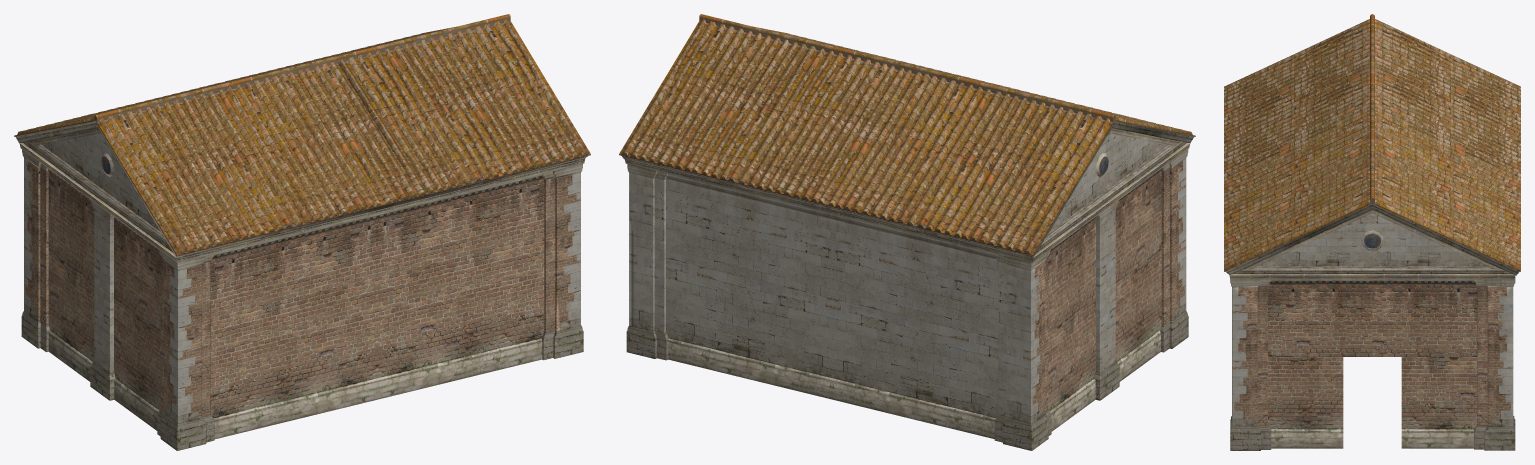
The model's file is Tower4.fbx.
3 renders of one model, left to right at view 1: azimuth 30°, elevation 25°; view 2: azimuth 150°, elevation 25°; view 3: azimuth 270°, elevation 25°, orthographic. The views are drawn at different scales.
Parts seen in each view (by area): view 1: LV_Spechia_City_PrisonTower04_SM_SVR; view 2: LV_Spechia_City_PrisonTower04_SM_SVR; view 3: LV_Spechia_City_PrisonTower04_SM_SVR.
Part boxes in pixels (<box>): LV_Spechia_City_PrisonTower04_SM_SVR: <box>14,14,590,450</box>; LV_Spechia_City_PrisonTower04_SM_SVR: <box>619,14,1195,450</box>; LV_Spechia_City_PrisonTower04_SM_SVR: <box>1224,14,1520,450</box>.
Size of the model in its own units: 6.58 by 4.25 by 4.49.
Materials: 4 (4 with a texture image).
